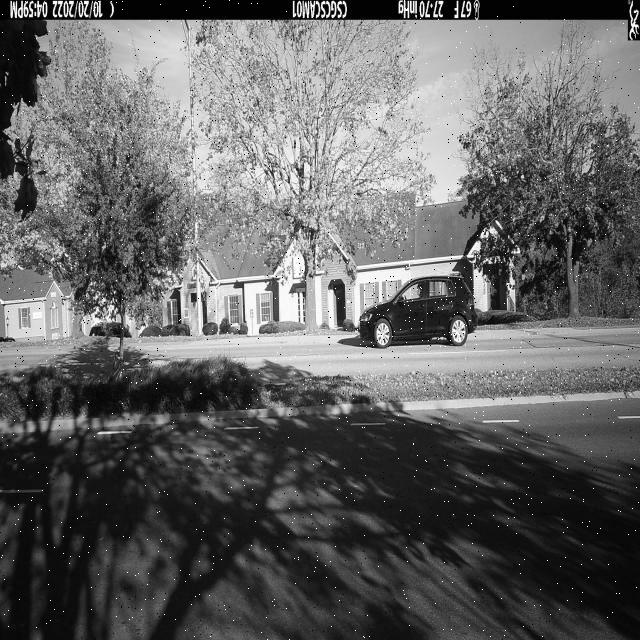Hatchback: (359, 276, 477, 349)
